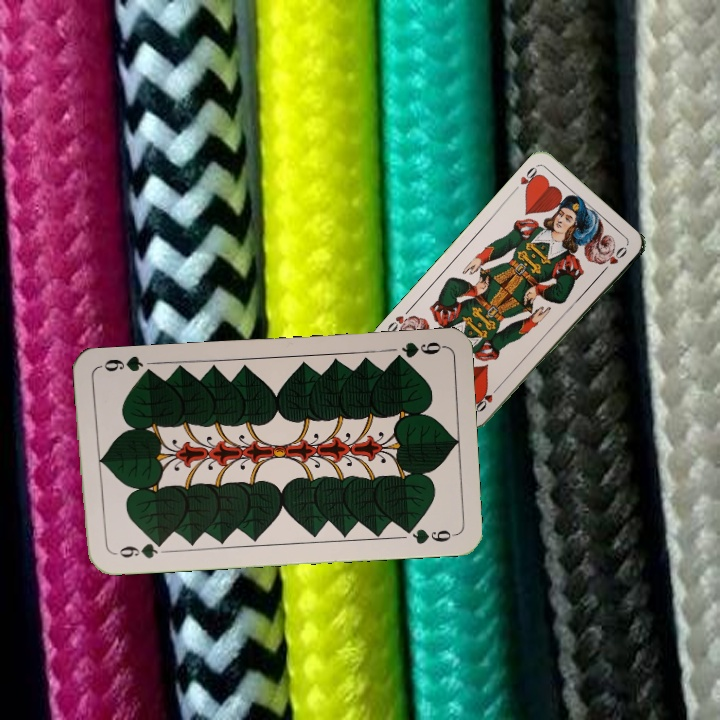G9: (388, 337, 446, 365), (108, 537, 167, 561)
HO: (509, 162, 543, 195), (472, 381, 503, 415)
